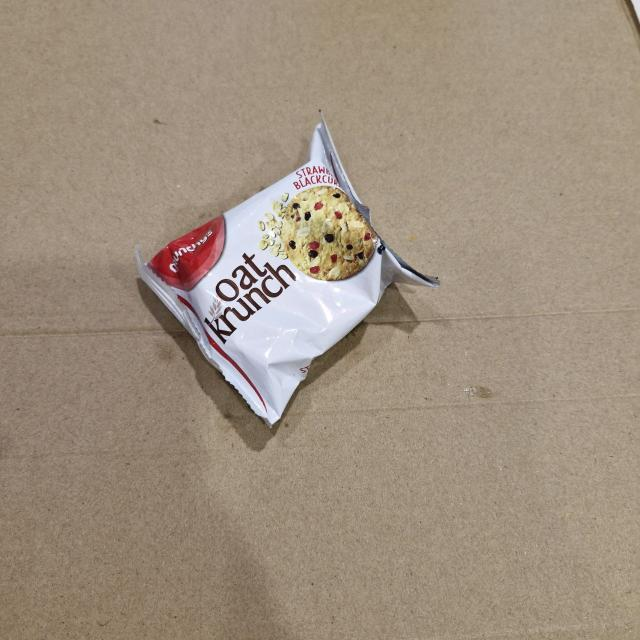plastic: (135, 111, 448, 441)
